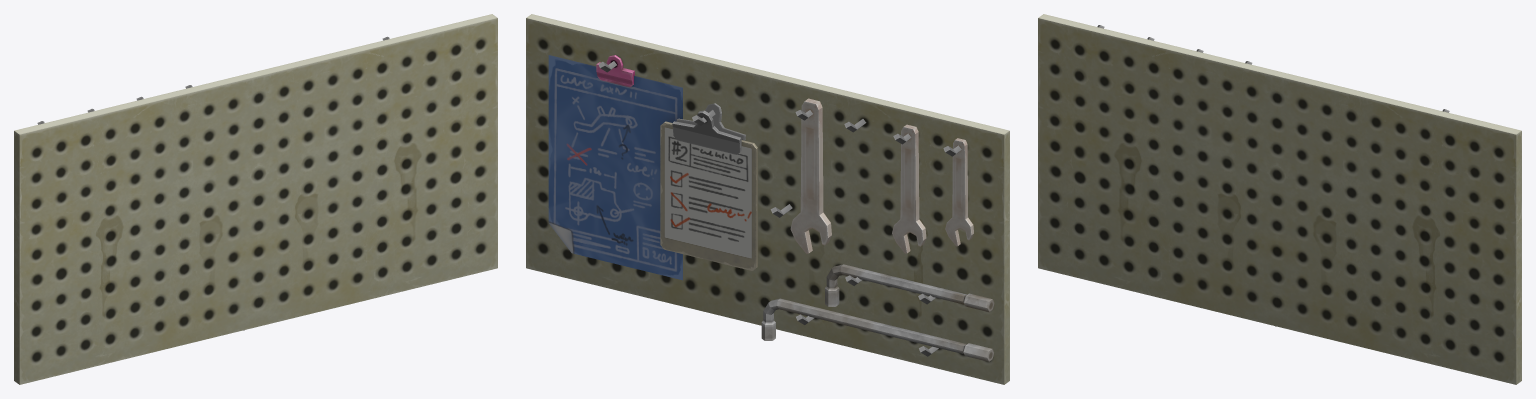
The model's file is P_PegBoard_001_S1_M01.obj.
The picture shows the model from 3 angles, left to right: view 1: azimuth 30°, elevation 25°; view 2: azimuth 150°, elevation 25°; view 3: azimuth 330°, elevation 25°; orthographic projection.
Size of the model in its own units: 2 by 1.03 by 0.2013.
Materials: 2 (2 with a texture image).
